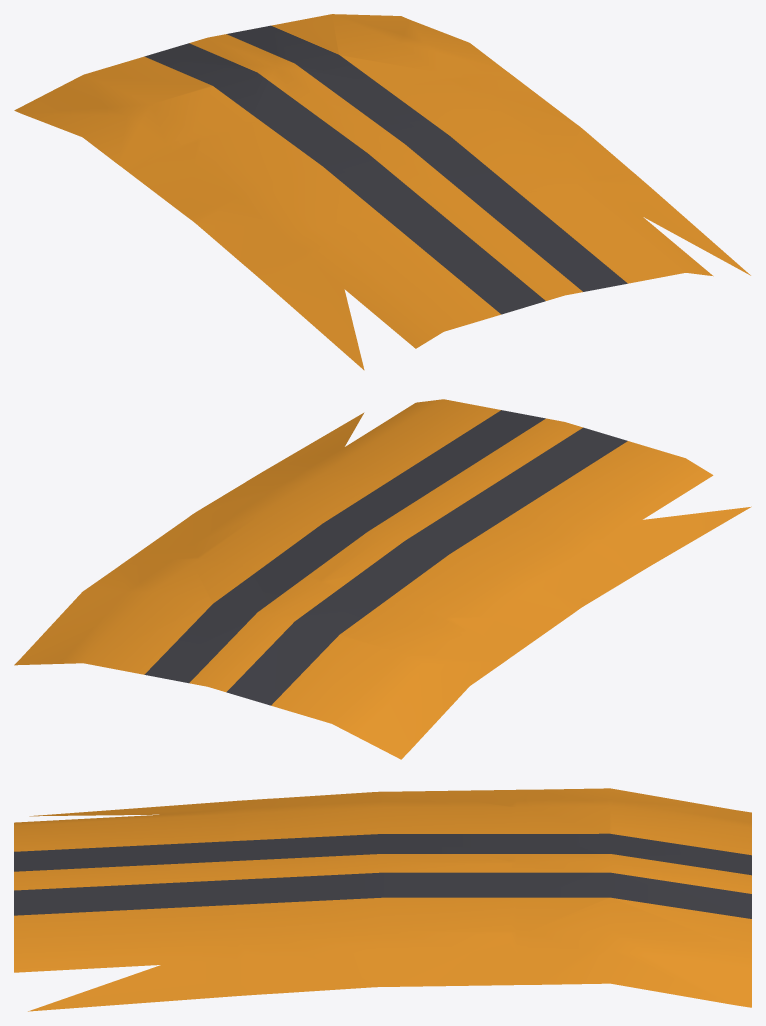
Rendered from protoHatch_roof_tsubame.glb.
The picture shows the model from 3 angles, top to bottom: view 1: azimuth 30°, elevation 25°; view 2: azimuth 150°, elevation 25°; view 3: azimuth 270°, elevation 25°; orthographic projection. The views are drawn at different scales.
Visible parts, largest first — view 1: roof_tsubame; view 2: roof_tsubame; view 3: roof_tsubame.
Part boxes in pixels (x1=…): roof_tsubame: x1=14, y1=14, x2=750, y2=370; roof_tsubame: x1=14, y1=399, x2=751, y2=759; roof_tsubame: x1=14, y1=788, x2=751, y2=1011.
Size of the model in its own units: 1.04 by 0.1285 by 1.66.
